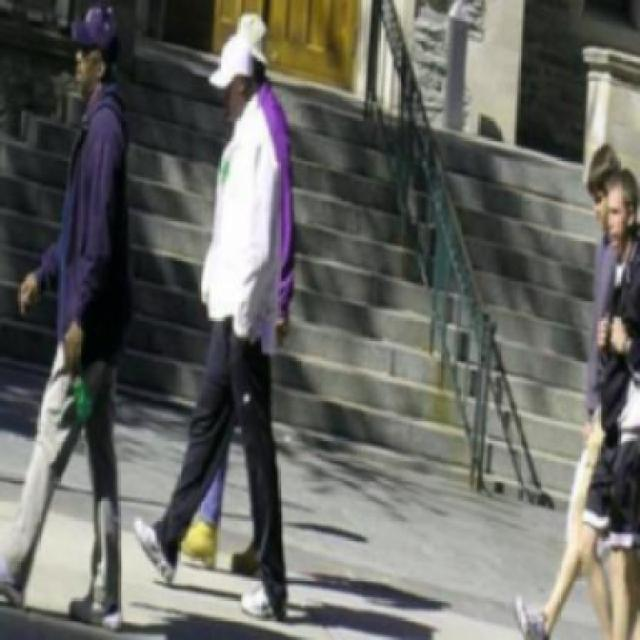Person: (137, 36, 294, 622), (0, 0, 138, 629), (582, 163, 638, 639)
